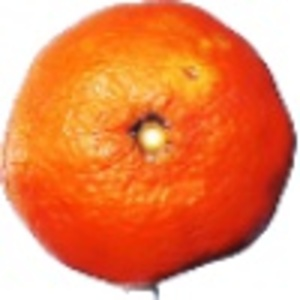tangerina: (1, 1, 297, 300)
